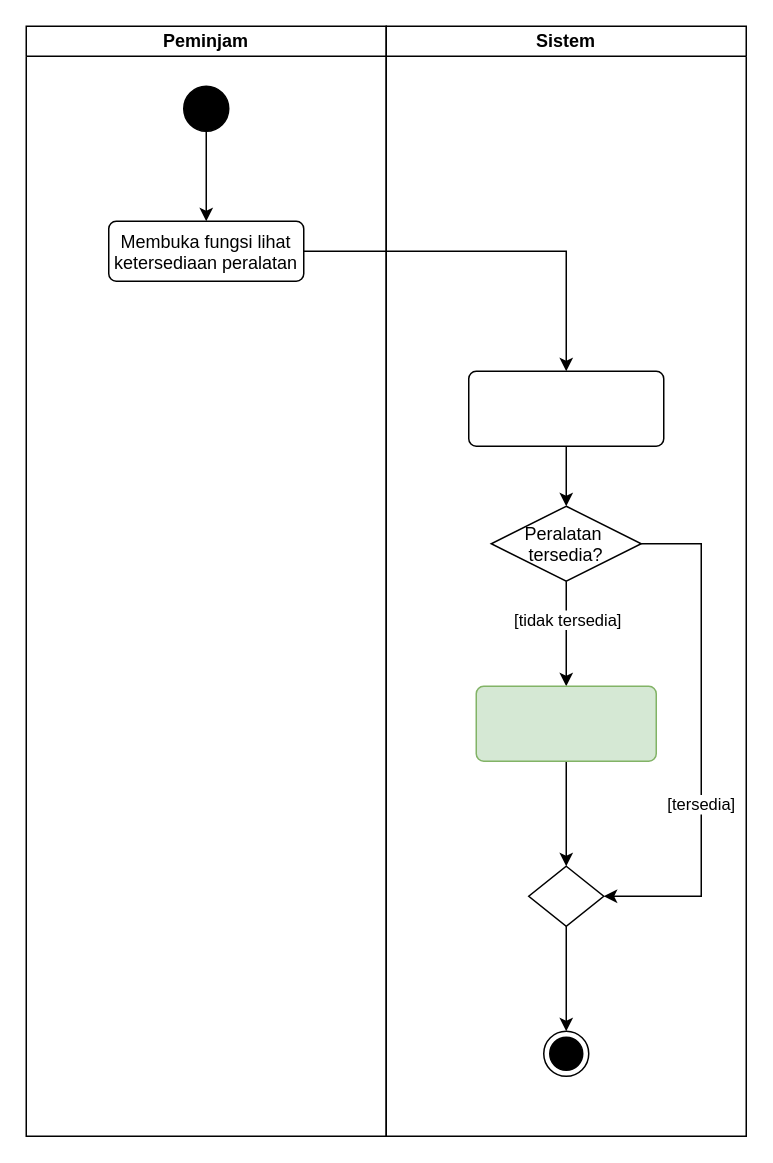
Image size: 773x1163. Some labels were removed from this diagram. The shapes that lost their labels are listed below. From the top down, each one's centre as x and y in pixels, then its label:
At point (565, 408): "menampilkan daftar peralatan beserta status ketersdiaannya".
At point (565, 723): "Menampilkan pesan tidak ada peralatan yang tersedia".
